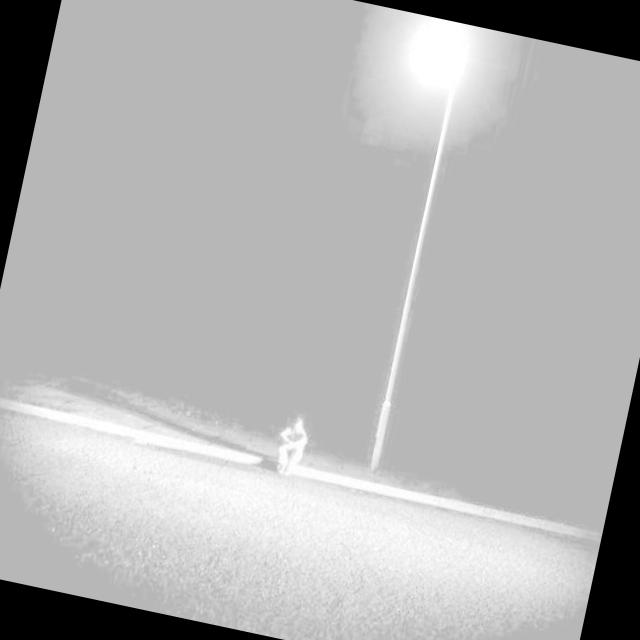Light: (294, 8, 500, 490)
